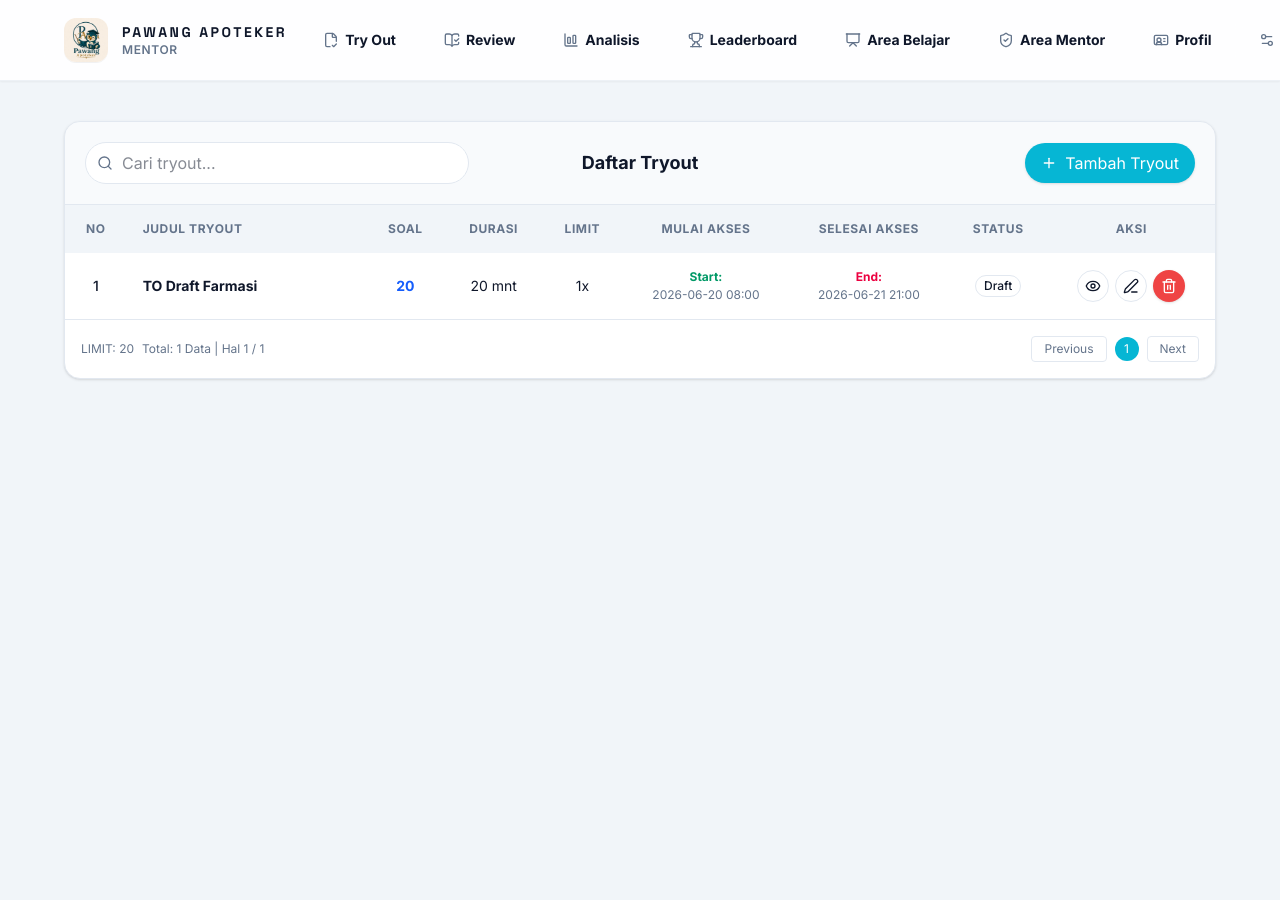
Test: Scheduled events page › opens create modal when Tambah Tryout is clicked
The image size is (1280, 900).
Step 1. Click the button "Tambah Tryout" → point(1110, 163), box [1025,143,1195,183]
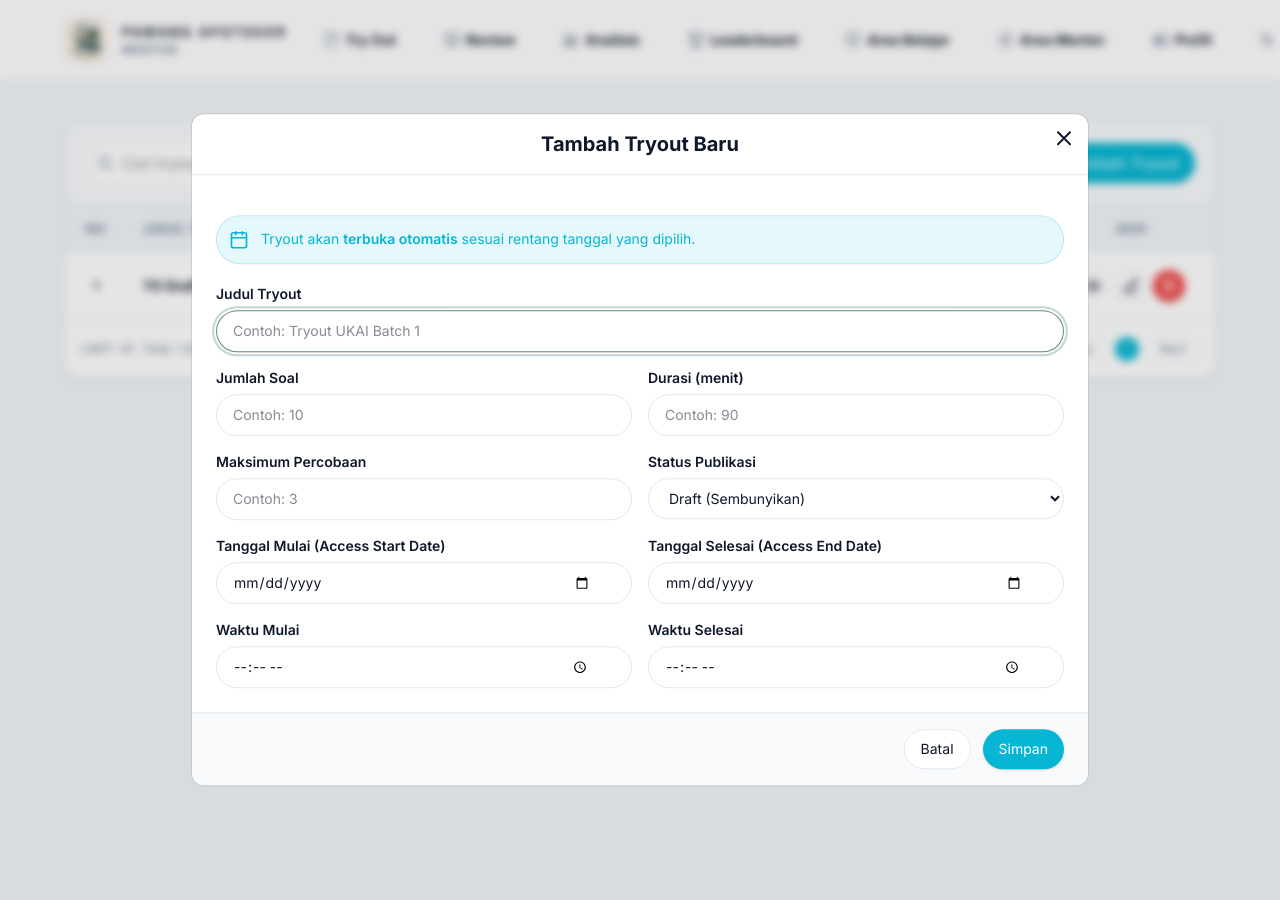
expect the heading "Tambah Tryout Baru" is shown: met, box [541,132,739,156]
expect the button "Simpan" is shown: met, box [982,730,1064,770]
